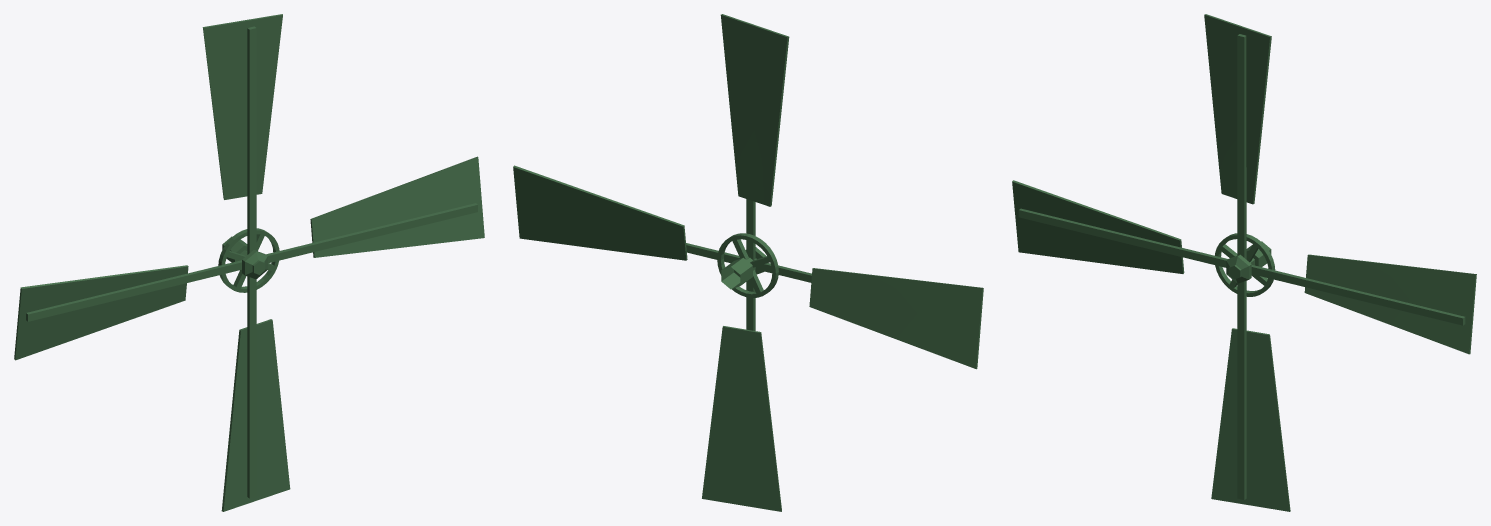
The model's file is propeller.obj.
3 renders of one model, left to right at view 1: azimuth 30°, elevation 25°; view 2: azimuth 150°, elevation 25°; view 3: azimuth 330°, elevation 25°, orthographic.
Parts seen in each view (by area): view 1: Wind_Mill.002_Cube.002; view 2: Wind_Mill.002_Cube.002; view 3: Wind_Mill.002_Cube.002.
Part boxes in pixels (x1,y1,x2,y2): Wind_Mill.002_Cube.002: [14, 14, 484, 511]; Wind_Mill.002_Cube.002: [513, 14, 983, 511]; Wind_Mill.002_Cube.002: [1012, 14, 1476, 511].
Bounding box in the file's own units: 22.78 × 22.68 × 2.37.
